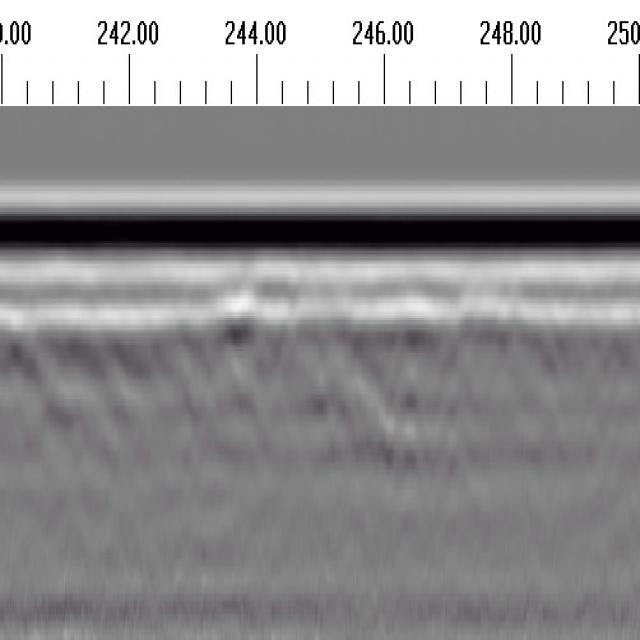loose: (217, 312, 453, 476)
